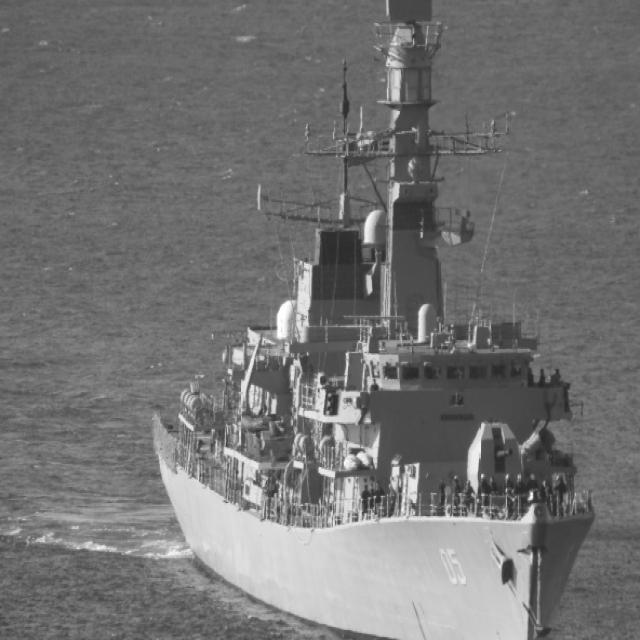Fragata: (144, 1, 595, 640)
